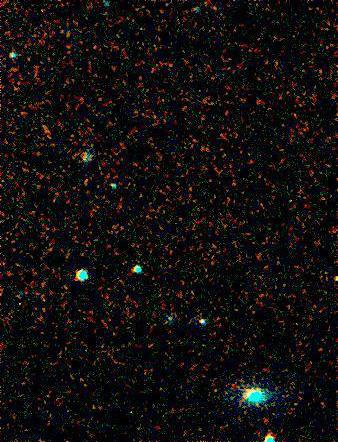star: (180, 0, 210, 23)
